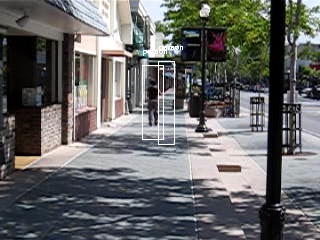person: (147, 80, 162, 127), (146, 80, 161, 127), (148, 80, 163, 127), (147, 79, 162, 126), (147, 81, 162, 128)
target_negative: (146, 148, 246, 181), (259, 149, 305, 163), (35, 224, 73, 232), (311, 105, 316, 149), (319, 44, 320, 55)
